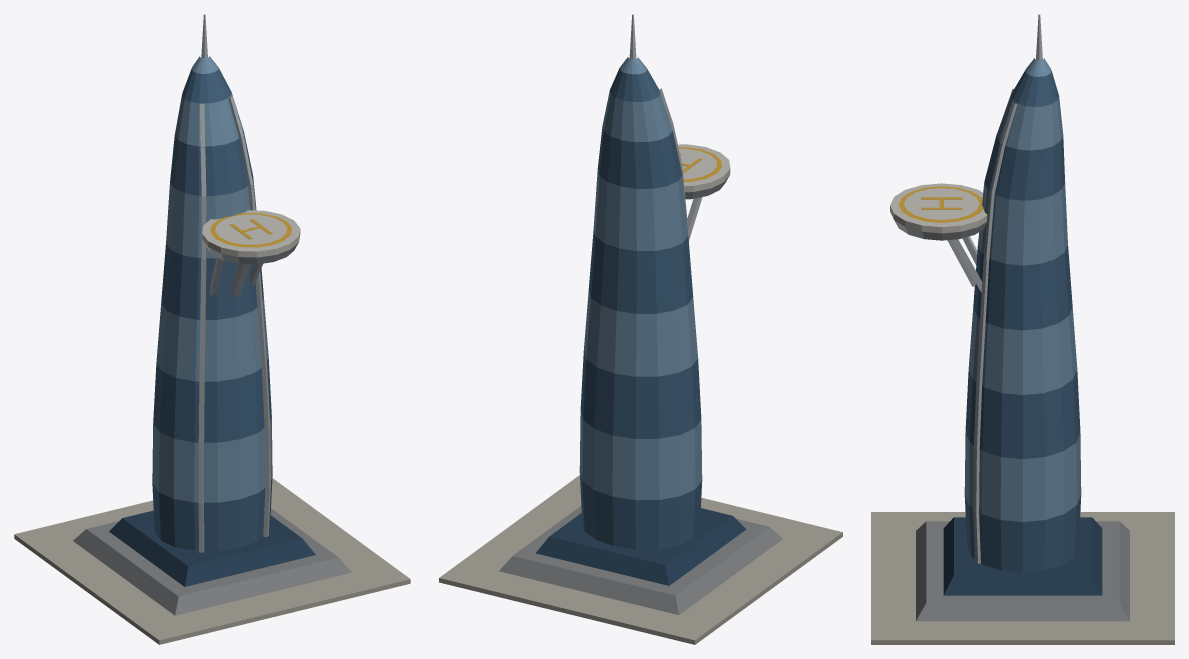
Rendered from gratteCiel.glb.
3 views of the same model, side by side, from view 1: azimuth 30°, elevation 25°; view 2: azimuth 150°, elevation 25°; view 3: azimuth 270°, elevation 25° (orthographic). The views are drawn at different scales.
Parts seen in each view (by area): view 1: gratteCiel; view 2: gratteCiel; view 3: gratteCiel.
Part boxes in pixels (x1,y1,x2,y2): gratteCiel: (14, 14, 410, 644); gratteCiel: (439, 14, 842, 644); gratteCiel: (871, 14, 1174, 644).
Size of the model in its own units: 1.76 by 3.62 by 1.76.
